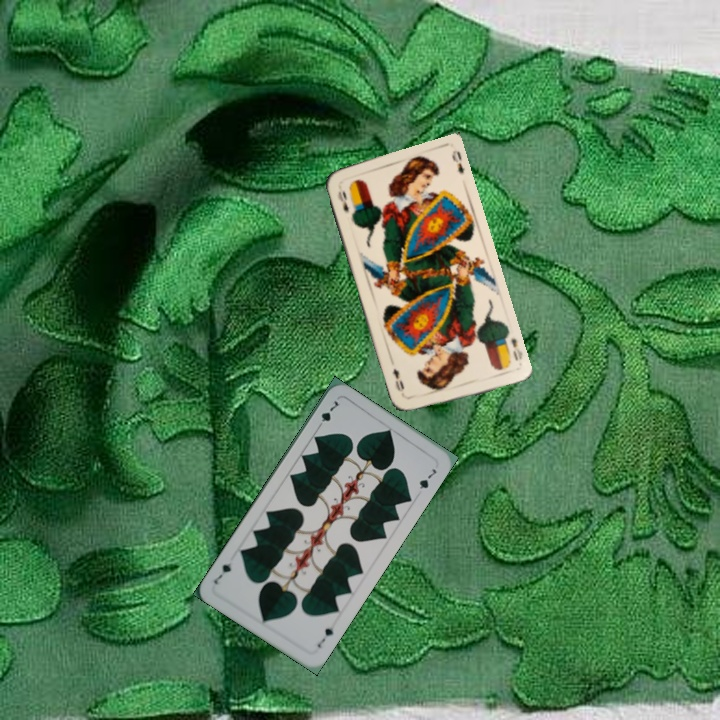EO: (333, 186, 351, 215), (507, 334, 525, 363)
G7: (313, 396, 341, 432), (313, 623, 336, 650)
